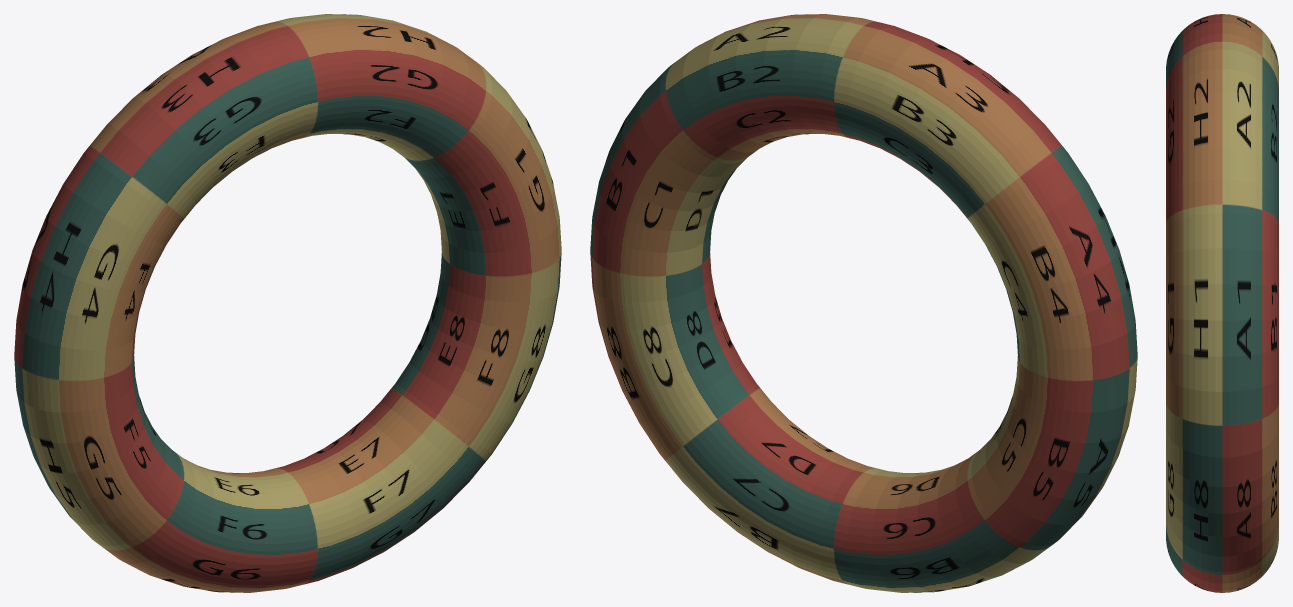
Rendered from texture_torus_R27_r18.glb.
The picture shows the model from 3 angles, left to right: view 1: azimuth 30°, elevation 25°; view 2: azimuth 150°, elevation 25°; view 3: azimuth 270°, elevation 25°; orthographic projection. The views are drawn at different scales.
Parts seen in each view (by area): view 1: world; view 2: world; view 3: world.
Part boxes in pixels (<box>): world: <box>14,14,561,592</box>; world: <box>590,14,1137,592</box>; world: <box>1166,14,1278,592</box>.
Bounding box in the file's own units: 34.8 × 34.73 × 6.79.
Materials: 1 (1 with a texture image).
